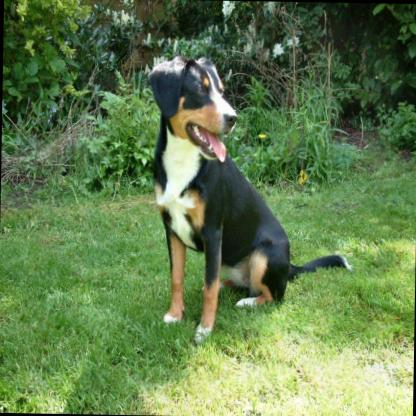EntleBucher: (145, 54, 352, 343)
